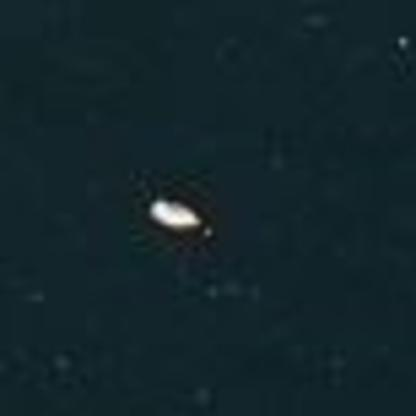ship: (145, 196, 202, 234)
